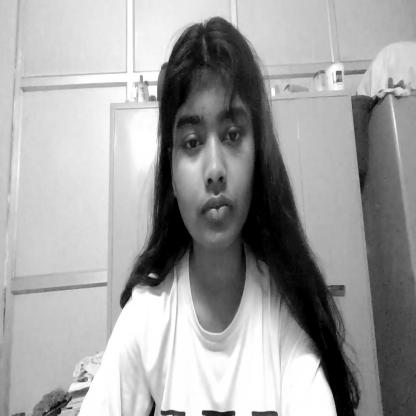Normal: (162, 22, 262, 259)
